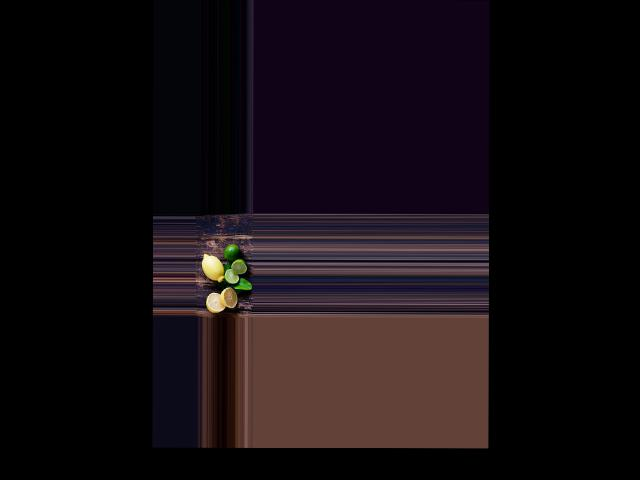lemon: (200, 252, 226, 283)
